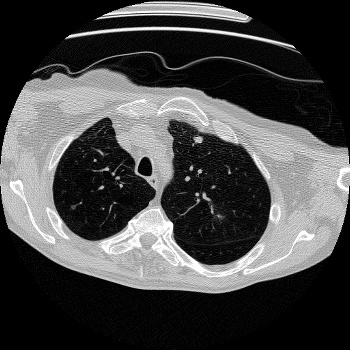PN: (195, 136, 203, 144)
